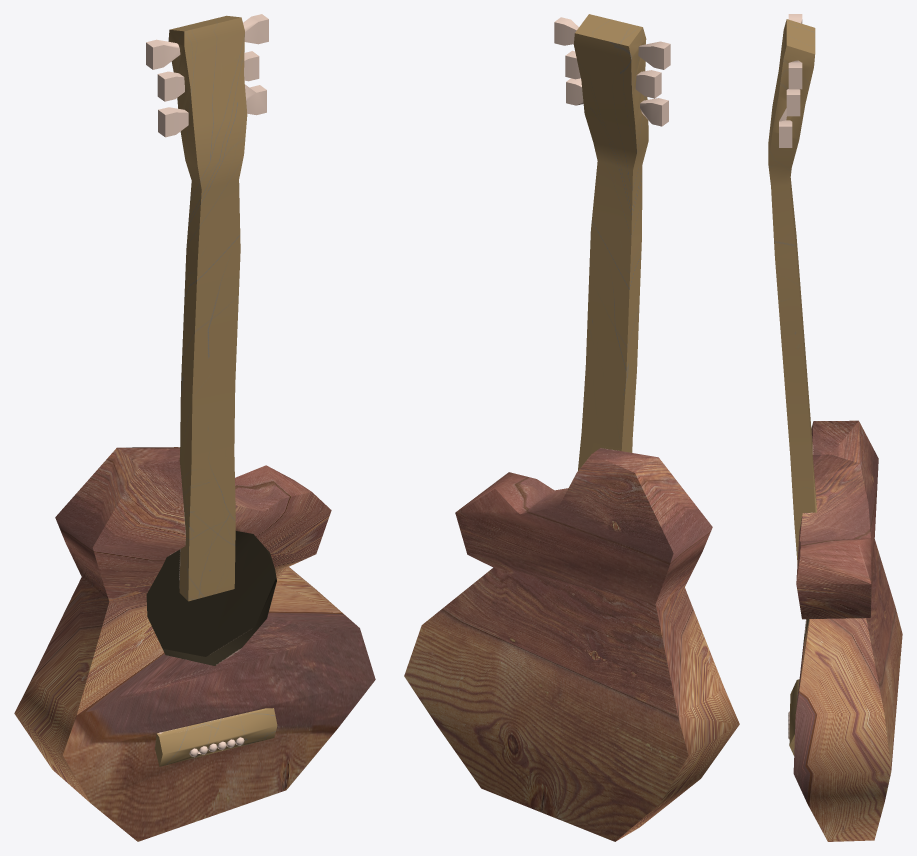
Rendered from guitar.fbx.
3 views of the same model, side by side, from view 1: azimuth 30°, elevation 25°; view 2: azimuth 150°, elevation 25°; view 3: azimuth 270°, elevation 25° (orthographic). The views are drawn at different scales.
Visible parts, largest first — view 1: unamed; view 2: unamed; view 3: unamed.
Boxes of the visible parts, x1,y1,x2,y2 form: unamed: (14,14,375,841); unamed: (404,14,739,841); unamed: (768,14,902,841).
Bounding box in the file's own units: 0.3196 × 0.8114 × 0.126.
Materials: 1 (1 with a texture image).
